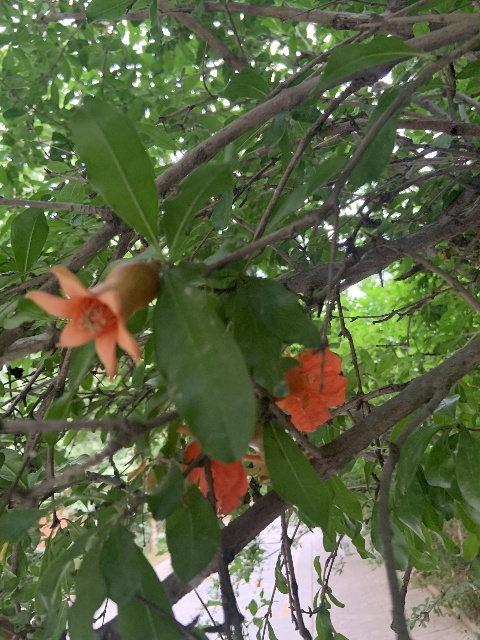early-fruit: (25, 258, 160, 381)
flower: (272, 346, 347, 433), (179, 425, 253, 513)
